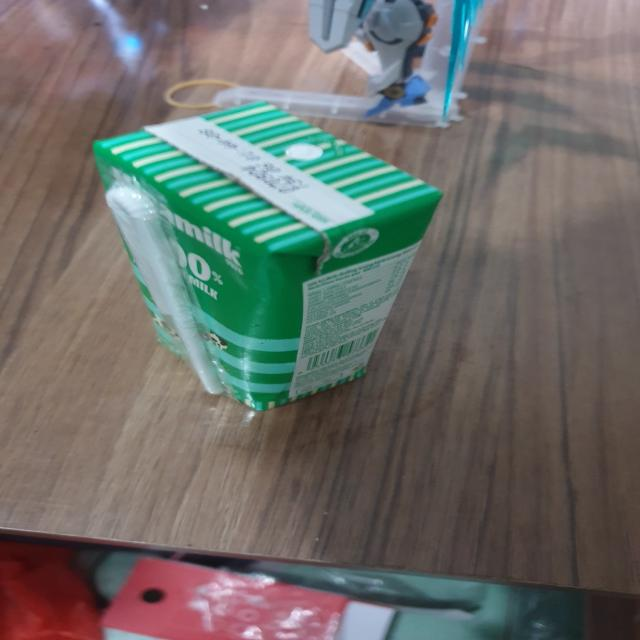Vina: (92, 99, 439, 406)
